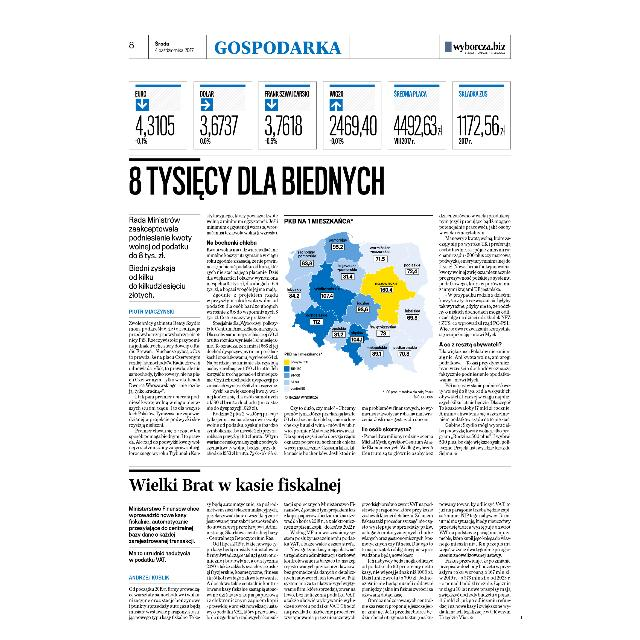article: (128, 158, 514, 460), (128, 468, 512, 622)
